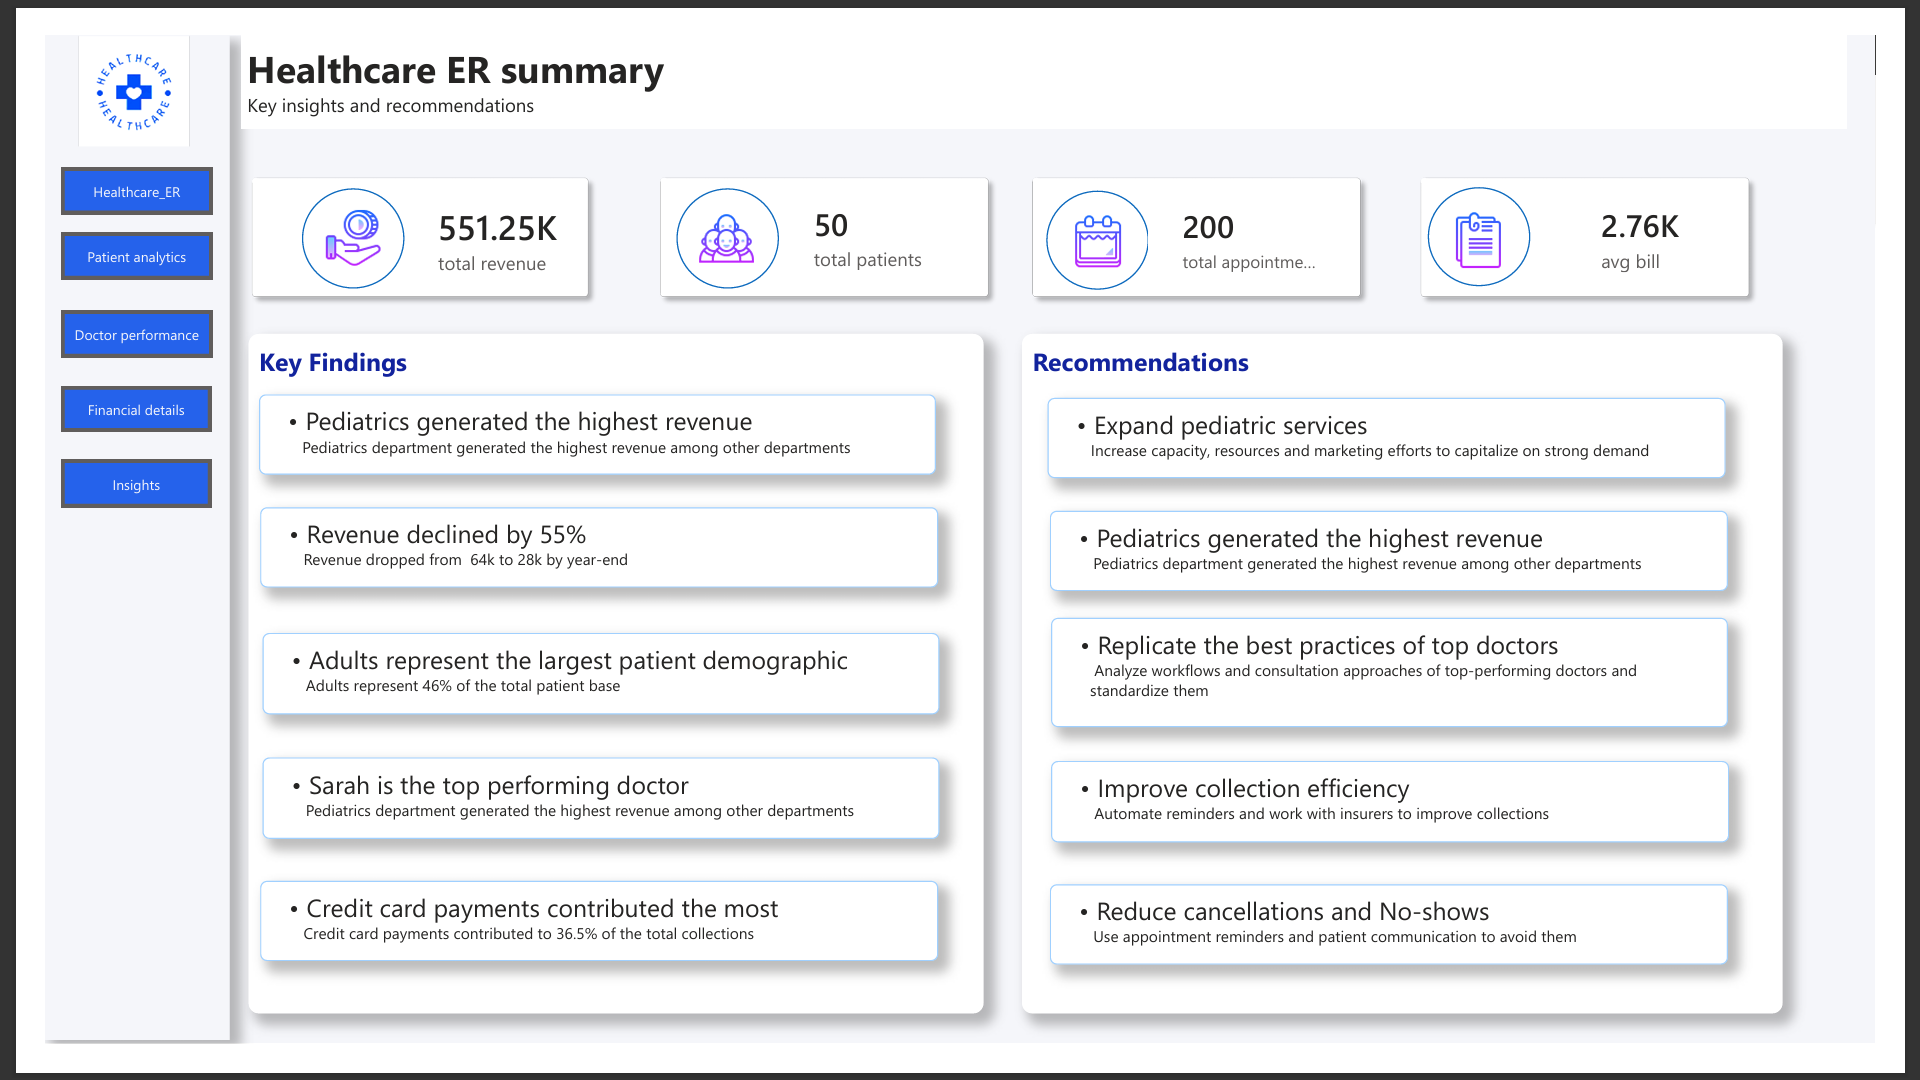

What the dashboard file says about the page in this screenshot:
{"tool":"powerbi","page":{"name":"Insights","canvas":[1573,866],"ordinal":4},"visuals":[{"type":"shape","title":"Healthcare analytics","box":[0,0,159.3,863],"z":0},{"type":"actionButton","title":"Executive dashboard","box":[14.5,113.4,129.1,39.8],"z":1000},{"type":"image","box":[8.4,0,136.3,95.3],"z":2000},{"type":"actionButton","box":[14.5,168.9,129.1,39.8],"z":3000},{"type":"actionButton","box":[14.5,236.5,129.1,39.8],"z":4000},{"type":"actionButton","box":[14.5,300.8,128.7,39],"z":5000},{"type":"textbox","box":[169.2,0,1379.5,79.5],"z":6000},{"type":"shape","box":[169.2,112.8,306.6,120],"z":7000},{"type":"shape","box":[220.8,131.4,88,85.3],"z":8000},{"type":"image","box":[235.7,140.9,58.2,65],"z":9000},{"type":"cardVisual","fields":{"Data":["billing.total revenue"]},"box":[309.5,127.3,175,92.5],"z":10000},{"type":"shape","box":[520,113.4,300.4,119.4],"z":11000},{"type":"shape","box":[543.1,131.4,88,85.3],"z":12000},{"type":"image","box":[556.7,140.9,58.2,65],"z":13000},{"type":"cardVisual","fields":{"Data":["patients.total patients"]},"box":[631.9,127.3,175,91.1],"z":14000},{"type":"shape","box":[839.7,113.4,300.4,119.4],"z":15000},{"type":"shape","box":[1174.2,112.8,299.3,120],"z":16000},{"type":"shape","box":[861.4,132.7,88,85.3],"z":17000},{"type":"shape","box":[1188.7,130.1,88.2,85.3],"z":18000},{"type":"image","box":[1203.1,143.2,59.3,65.1],"z":19000},{"type":"cardVisual","fields":{"Data":["appointments.total appointments"]},"box":[949.5,127.3,178.8,94.8],"z":20000},{"type":"cardVisual","fields":{"Data":["billing.avg bill"]},"box":[1308.7,127.3,175,92.5],"z":21000},{"type":"image","box":[877.5,145.1,55.6,62.4],"z":22000},{"type":"textbox","box":[175,256,631.9,584.2],"z":23000},{"type":"textbox","box":[840.2,256,653.6,584.2],"z":24000},{"type":"actionButton","box":[14.5,364.4,128.7,40.5],"z":25000},{"type":"textbox","box":[183.6,308,582.8,69.4],"z":26000},{"type":"textbox","box":[185.1,404.9,582.8,69.4],"z":27000},{"type":"textbox","box":[186.5,513.3,582.8,69.4],"z":28000},{"type":"textbox","box":[186.5,620.4,582.8,69.4],"z":29000},{"type":"textbox","box":[185.1,725.9,582.8,69.4],"z":30000},{"type":"textbox","box":[862.3,311.1,582.8,69.4],"z":31000},{"type":"textbox","box":[863.7,408,582.8,69.4],"z":32000},{"type":"textbox","box":[864.7,500.3,582.8,94],"z":33000},{"type":"textbox","box":[865.2,623.4,582.8,69.4],"z":34000},{"type":"textbox","box":[863.7,729,582.8,69.4],"z":35000}]}

Visuals, with their boxes in screenshot pixels (x1, y1, x2, y2), scaled from the page's 1573x866 canvas onto the 1920x1080 screenshot:
"Healthcare analytics" shape: (0,0,194,1076)
"Executive dashboard" actionButton: (18,141,175,191)
image: (10,0,177,119)
actionButton: (18,211,175,260)
actionButton: (18,295,175,345)
actionButton: (18,375,175,424)
textbox: (207,0,1890,99)
shape: (207,141,581,290)
shape: (270,164,377,270)
image: (288,176,359,257)
cardVisual - billing.total revenue: (378,159,591,274)
shape: (635,141,1001,290)
shape: (663,164,770,270)
image: (680,176,751,257)
cardVisual - patients.total patients: (771,159,985,272)
shape: (1025,141,1392,290)
shape: (1433,141,1799,290)
shape: (1051,165,1159,272)
shape: (1451,162,1559,269)
image: (1469,179,1541,260)
cardVisual - appointments.total appointments: (1159,159,1377,277)
cardVisual - billing.avg bill: (1597,159,1811,274)
image: (1071,181,1139,259)
textbox: (214,319,985,1048)
textbox: (1026,319,1823,1048)
actionButton: (18,454,175,505)
textbox: (224,384,935,471)
textbox: (226,505,937,592)
textbox: (228,640,939,727)
textbox: (228,774,939,860)
textbox: (226,905,937,992)
textbox: (1053,388,1764,475)
textbox: (1054,509,1766,595)
textbox: (1055,624,1767,741)
textbox: (1056,777,1767,864)
textbox: (1054,909,1766,996)
